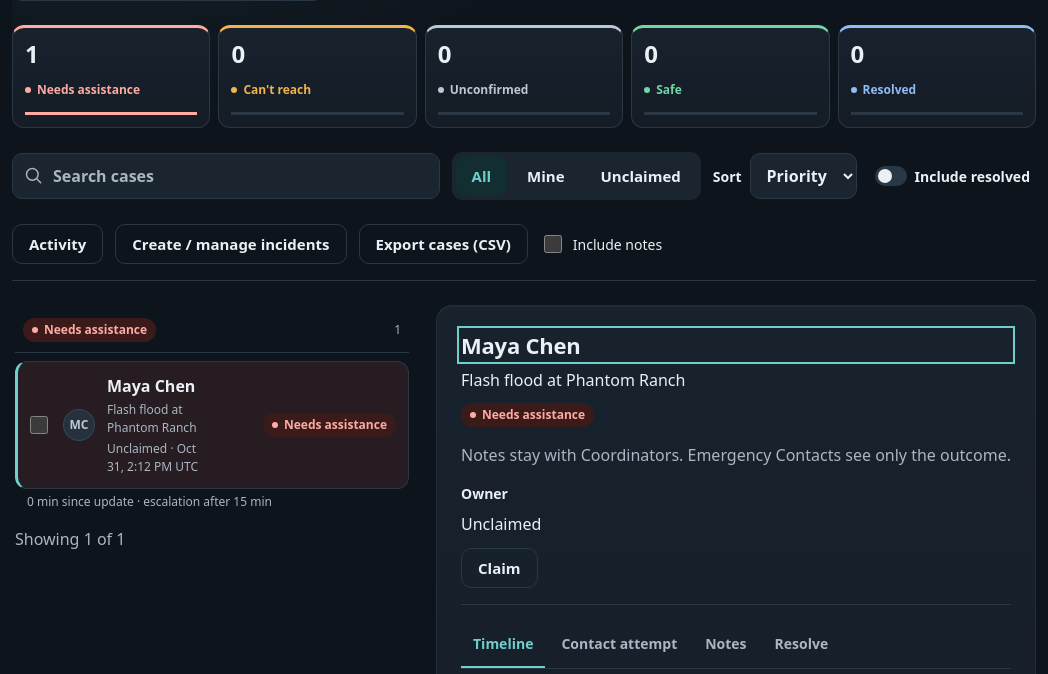
Test: the Case history says who did what, when and from which Report, with no way to change an entry
Click the tab "Timeline": (503, 644) [461,621,545,668]
(page scrolled)
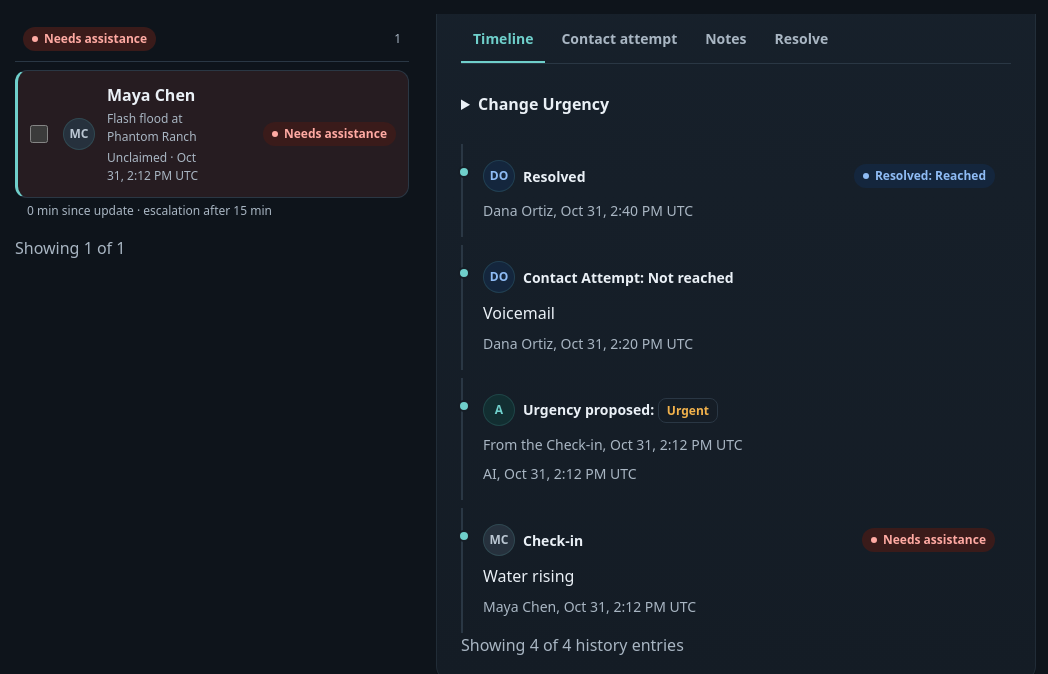
Check: no the button "Claim" are shown
